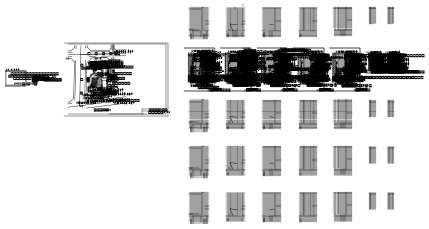corridor: (92, 162, 96, 163), (92, 167, 96, 168), (92, 166, 96, 167), (92, 165, 96, 166), (284, 170, 285, 173), (97, 158, 98, 160), (92, 164, 96, 164)
door: (286, 154, 287, 155), (326, 154, 326, 155)
exit: (111, 137, 112, 137)
room: (69, 166, 77, 174), (88, 179, 96, 187), (92, 130, 113, 133), (87, 128, 95, 135), (102, 165, 106, 170), (207, 145, 215, 147), (253, 174, 258, 177), (370, 174, 375, 177), (294, 174, 298, 177), (399, 160, 403, 163), (419, 160, 423, 163), (418, 174, 422, 177), (118, 180, 122, 183), (118, 131, 122, 134), (214, 154, 219, 156), (334, 174, 337, 177), (209, 153, 212, 156), (398, 174, 401, 177), (113, 180, 116, 183), (97, 172, 100, 175), (113, 172, 116, 175), (113, 131, 116, 134), (97, 170, 100, 173), (104, 165, 106, 169), (294, 179, 300, 180), (209, 173, 211, 176), (205, 153, 207, 156), (299, 149, 300, 153), (218, 157, 220, 159), (94, 141, 96, 143), (105, 164, 107, 166), (97, 172, 101, 173), (92, 166, 96, 167), (92, 165, 96, 166), (92, 162, 96, 163), (92, 167, 96, 168), (284, 170, 285, 173), (246, 154, 248, 155), (93, 153, 94, 155), (94, 155, 95, 157), (96, 156, 97, 158), (97, 158, 98, 160), (97, 162, 99, 163), (97, 163, 99, 164), (97, 164, 99, 165), (97, 165, 99, 166), (97, 166, 99, 167), (97, 167, 99, 168), (97, 161, 99, 162), (100, 133, 101, 135), (99, 133, 100, 135), (98, 133, 99, 135), (97, 133, 98, 135), (96, 133, 97, 135), (102, 133, 103, 135), (101, 133, 102, 135), (105, 133, 106, 135), (104, 133, 105, 135), (103, 133, 104, 135), (97, 160, 99, 161), (96, 160, 97, 162), (106, 133, 107, 135), (107, 133, 108, 135), (108, 133, 109, 135), (109, 133, 110, 135), (95, 133, 96, 135), (94, 133, 95, 135), (94, 161, 96, 162), (377, 152, 378, 153), (396, 174, 397, 175), (396, 172, 397, 173), (396, 171, 397, 172), (416, 174, 417, 175), (416, 172, 417, 173), (416, 171, 417, 172), (96, 159, 97, 160), (90, 142, 91, 143), (90, 141, 91, 142), (90, 140, 91, 141), (90, 139, 91, 140), (90, 138, 91, 139), (90, 137, 91, 138), (103, 172, 104, 173), (254, 165, 255, 166), (254, 167, 255, 168), (254, 169, 255, 170), (257, 165, 257, 165), (257, 167, 257, 167), (257, 167, 257, 168), (257, 169, 257, 169), (257, 169, 257, 170), (296, 165, 297, 165), (336, 165, 336, 165), (373, 165, 374, 165), (400, 165, 400, 165), (420, 165, 420, 165), (97, 163, 99, 163), (97, 165, 99, 165), (97, 167, 99, 167), (97, 162, 99, 162), (99, 133, 99, 135), (97, 133, 97, 135), (102, 133, 102, 135), (101, 133, 101, 135), (104, 133, 104, 135), (97, 164, 97, 165), (106, 133, 106, 135), (108, 133, 108, 135), (110, 133, 110, 135), (95, 133, 95, 135), (90, 142, 91, 142), (90, 140, 91, 140), (90, 138, 91, 138), (105, 163, 105, 164), (105, 162, 105, 163), (105, 161, 105, 162), (111, 148, 111, 149), (111, 147, 111, 148), (111, 146, 111, 146), (111, 144, 111, 145), (111, 143, 111, 144), (92, 164, 96, 164), (362, 148, 363, 148)
staircase: (96, 139, 104, 147), (100, 146, 108, 153), (93, 147, 100, 154), (295, 149, 296, 150), (296, 149, 297, 150), (286, 154, 287, 155), (335, 149, 336, 150), (256, 149, 257, 150), (246, 154, 247, 155), (112, 153, 113, 154), (112, 154, 113, 155), (297, 176, 298, 176), (297, 160, 297, 160), (297, 162, 298, 162), (297, 160, 298, 160), (295, 151, 296, 151), (296, 151, 297, 151), (297, 162, 297, 162), (336, 151, 336, 151), (335, 151, 336, 151), (336, 149, 336, 150), (337, 160, 337, 160), (337, 162, 337, 162), (336, 162, 337, 162), (336, 160, 337, 160), (337, 176, 337, 176), (326, 154, 326, 155), (375, 176, 375, 176), (373, 149, 373, 150), (374, 149, 374, 150), (374, 151, 374, 151), (373, 151, 373, 151), (362, 148, 363, 148), (375, 160, 375, 160), (374, 160, 375, 160), (374, 162, 375, 162), (375, 162, 375, 162), (256, 151, 257, 151), (256, 151, 256, 151), (256, 149, 256, 150), (258, 160, 258, 160), (258, 162, 258, 162), (257, 162, 257, 162), (257, 160, 257, 160), (257, 176, 258, 176), (217, 149, 217, 150), (217, 151, 217, 151), (218, 160, 218, 160), (218, 162, 218, 162), (401, 176, 401, 176), (401, 162, 401, 162), (400, 162, 401, 162), (400, 160, 401, 160), (401, 160, 401, 160), (421, 176, 422, 176), (421, 162, 421, 162), (420, 162, 421, 162), (420, 160, 421, 160), (421, 160, 421, 160)
wall: (69, 122, 131, 129), (89, 121, 131, 126), (81, 123, 83, 186), (69, 176, 131, 178), (76, 129, 77, 170), (75, 131, 76, 169), (91, 128, 107, 130), (92, 179, 114, 180), (120, 131, 131, 133), (245, 153, 248, 160), (245, 105, 248, 112), (245, 57, 248, 64), (245, 9, 248, 16), (87, 151, 88, 171), (245, 202, 248, 208), (291, 155, 293, 163), (331, 155, 333, 163), (323, 153, 331, 155), (72, 169, 76, 173), (72, 180, 76, 184), (71, 127, 75, 131), (284, 153, 291, 155), (89, 181, 93, 184), (95, 145, 105, 146), (95, 147, 105, 148), (96, 149, 105, 150), (245, 159, 253, 160), (245, 207, 253, 208), (245, 111, 253, 112), (245, 63, 253, 64), (245, 15, 253, 16), (107, 130, 115, 131), (374, 153, 376, 156), (101, 151, 104, 153), (106, 169, 112, 170), (111, 138, 112, 143), (288, 159, 292, 160), (374, 158, 376, 160), (288, 207, 292, 208), (288, 111, 292, 112), (288, 63, 292, 64), (119, 181, 121, 183), (96, 145, 98, 147), (297, 148, 299, 149), (377, 152, 379, 153), (218, 152, 220, 153), (202, 158, 204, 159), (114, 181, 115, 183), (100, 150, 101, 152), (97, 162, 99, 163), (97, 163, 99, 164), (97, 164, 99, 165), (97, 165, 99, 166), (97, 166, 99, 167), (97, 167, 99, 168), (97, 161, 99, 162), (100, 133, 101, 135), (99, 133, 100, 135), (98, 133, 99, 135), (97, 133, 98, 135), (102, 133, 103, 135), (101, 133, 102, 135), (104, 133, 105, 135), (103, 133, 104, 135), (97, 160, 99, 161), (108, 134, 110, 135), (105, 133, 106, 135), (106, 133, 107, 135), (107, 133, 108, 135), (108, 133, 109, 135), (109, 133, 110, 135), (96, 133, 97, 135), (95, 133, 96, 135), (94, 133, 95, 135), (287, 160, 288, 161), (287, 161, 288, 162), (288, 162, 289, 163), (289, 163, 290, 164), (290, 163, 291, 164), (299, 161, 300, 162), (375, 156, 376, 157), (375, 157, 376, 158), (376, 152, 377, 153), (377, 153, 378, 154), (202, 158, 203, 159), (99, 148, 100, 149), (100, 152, 101, 153), (101, 153, 102, 154), (102, 153, 103, 154), (90, 142, 91, 143), (90, 141, 91, 142), (90, 140, 91, 141), (90, 139, 91, 140), (90, 138, 91, 139), (90, 137, 91, 138), (289, 162, 289, 163), (293, 176, 293, 176), (293, 176, 294, 176), (371, 176, 372, 176), (360, 153, 360, 153), (360, 152, 360, 153), (376, 153, 376, 153), (376, 152, 376, 153), (260, 169, 260, 169), (259, 154, 260, 154), (253, 177, 254, 177), (257, 150, 258, 150), (244, 151, 244, 151), (241, 150, 242, 150), (259, 166, 260, 166), (210, 177, 211, 177), (215, 152, 216, 152), (215, 152, 215, 153), (219, 152, 220, 152), (211, 177, 211, 178), (220, 154, 221, 154), (288, 15, 292, 15), (93, 181, 114, 181), (87, 132, 87, 151), (69, 125, 73, 125), (69, 127, 71, 127), (87, 161, 89, 161), (112, 138, 112, 143), (94, 144, 105, 144), (98, 147, 99, 147), (97, 163, 99, 163), (97, 165, 99, 165), (97, 167, 99, 167), (97, 162, 99, 162), (99, 133, 99, 135), (102, 133, 102, 135), (101, 133, 101, 135), (104, 133, 104, 135), (82, 177, 117, 177), (100, 152, 100, 152), (106, 170, 112, 170), (106, 133, 106, 135), (108, 133, 108, 135), (110, 133, 110, 135), (97, 133, 97, 135), (95, 133, 95, 135), (90, 142, 91, 142), (90, 140, 91, 140), (90, 138, 91, 138), (109, 138, 111, 138), (92, 163, 96, 163)
window: (287, 154, 298, 165), (248, 154, 258, 164), (99, 145, 109, 155), (243, 149, 253, 158), (328, 155, 336, 163), (366, 155, 374, 163), (88, 167, 96, 175), (68, 125, 76, 133), (283, 150, 292, 157), (320, 157, 328, 164), (323, 150, 331, 157), (358, 157, 366, 164), (361, 150, 369, 157), (241, 157, 249, 164), (69, 179, 77, 186), (281, 157, 288, 164), (109, 134, 115, 141), (91, 135, 97, 140), (118, 172, 122, 175), (103, 170, 107, 173), (103, 172, 107, 175), (110, 161, 114, 164), (203, 153, 206, 156), (212, 159, 215, 162), (204, 161, 207, 164), (207, 153, 210, 156), (93, 136, 96, 139), (112, 167, 115, 170), (361, 160, 368, 161), (360, 156, 367, 157), (361, 158, 368, 159), (360, 155, 366, 156), (207, 171, 210, 173), (212, 157, 215, 159), (112, 138, 114, 140), (112, 141, 114, 143), (111, 144, 113, 146), (109, 136, 111, 138), (325, 154, 327, 155), (246, 154, 248, 155), (105, 166, 107, 167), (108, 166, 110, 167), (112, 150, 114, 151), (111, 147, 113, 148), (286, 154, 287, 155), (115, 148, 116, 149), (115, 144, 116, 145)
